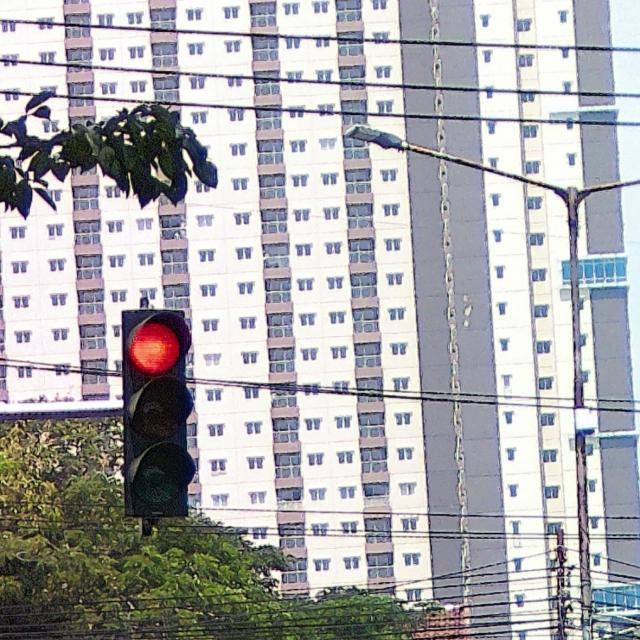red light: (121, 310, 192, 518)
